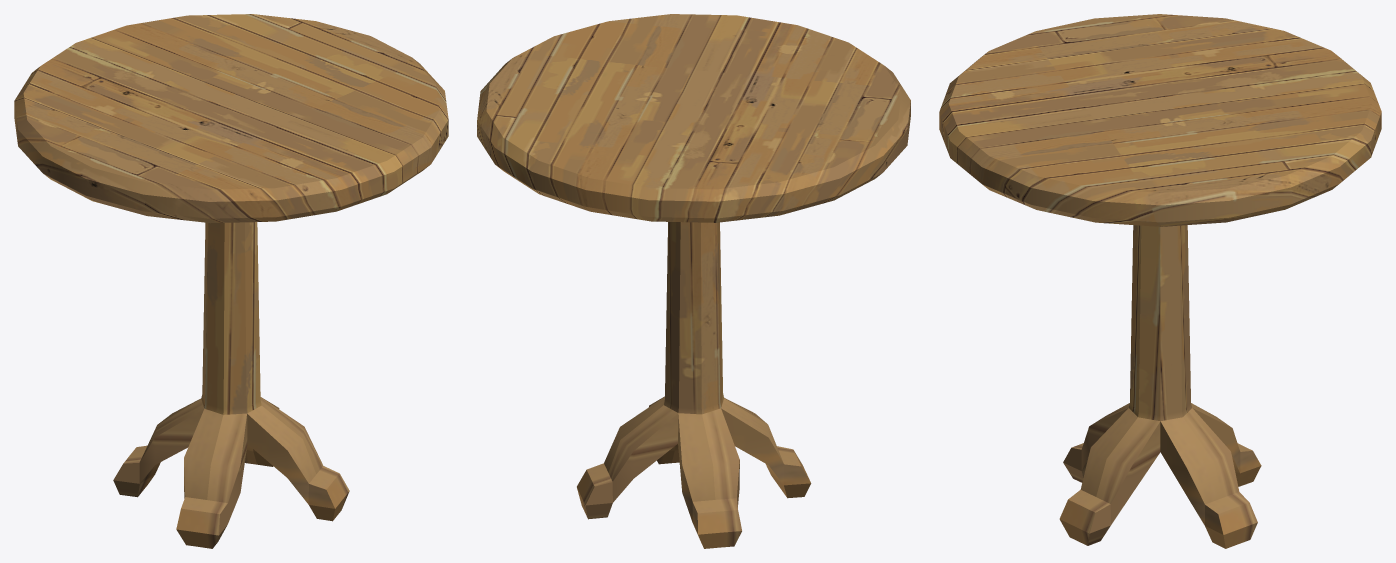
Rendered from table_cute.glb.
3 renders of one model, left to right at view 1: azimuth 30°, elevation 25°; view 2: azimuth 150°, elevation 25°; view 3: azimuth 270°, elevation 25°, orthographic.
Parts seen in each view (by area): view 1: table_geo1; view 2: table_geo1; view 3: table_geo1.
Part boxes in pixels (x1,y1,x2,y2): table_geo1: (14,14,448,548); table_geo1: (477,14,910,548); table_geo1: (939,14,1381,548).
Size of the model in its own units: 0.8075 by 0.8173 by 0.8075.
1 material, 1 textured.
